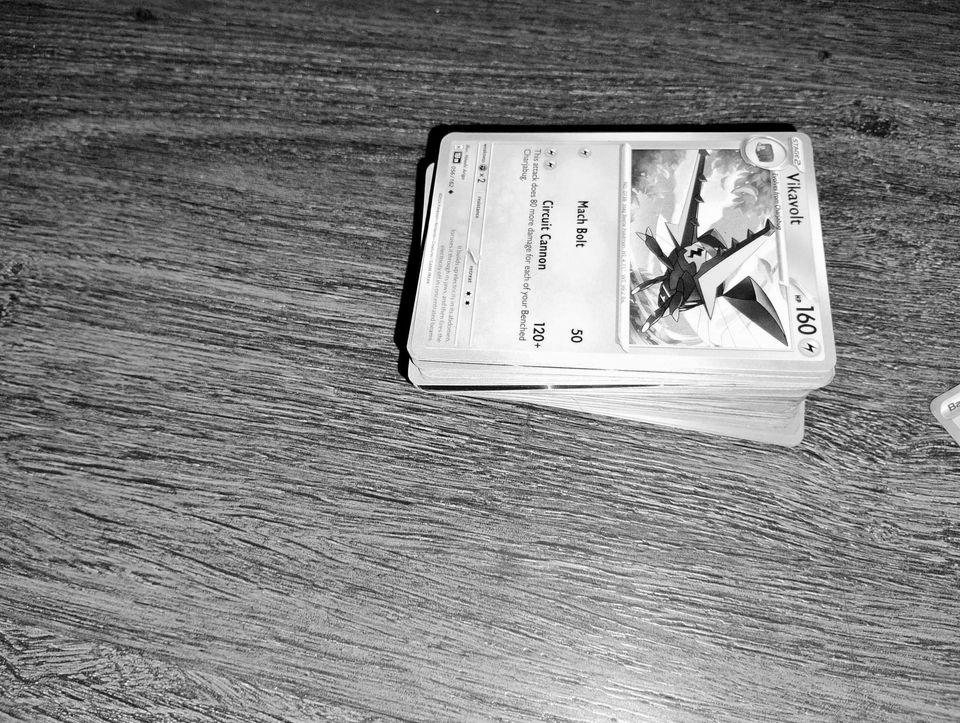card: (410, 131, 839, 372)
